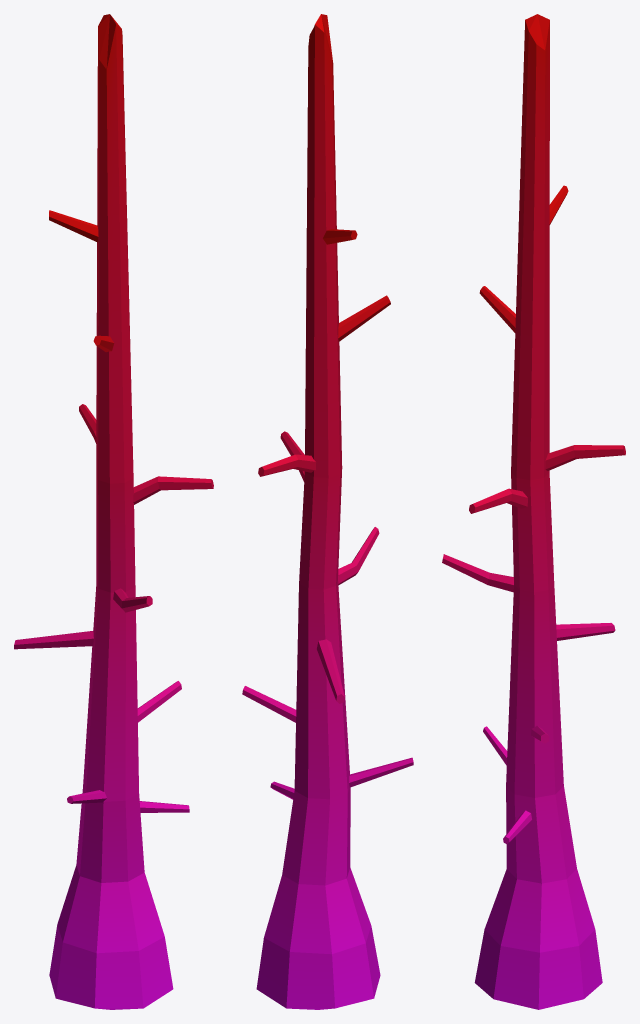
The model's file is Large_Dead_Pine.fbx.
3 views of the same model, side by side, from view 1: azimuth 30°, elevation 25°; view 2: azimuth 150°, elevation 25°; view 3: azimuth 270°, elevation 25° (orthographic).
Visible parts, largest first — view 1: SM_Tree_Pine_Dead_01; view 2: SM_Tree_Pine_Dead_01; view 3: SM_Tree_Pine_Dead_01.
Part boxes in pixels (x1,y1,x2,y2): SM_Tree_Pine_Dead_01: (14,14,213,1009); SM_Tree_Pine_Dead_01: (242,14,413,1009); SM_Tree_Pine_Dead_01: (442,14,625,1009).
Bounding box in the file's own units: 100 × 673 × 113.
